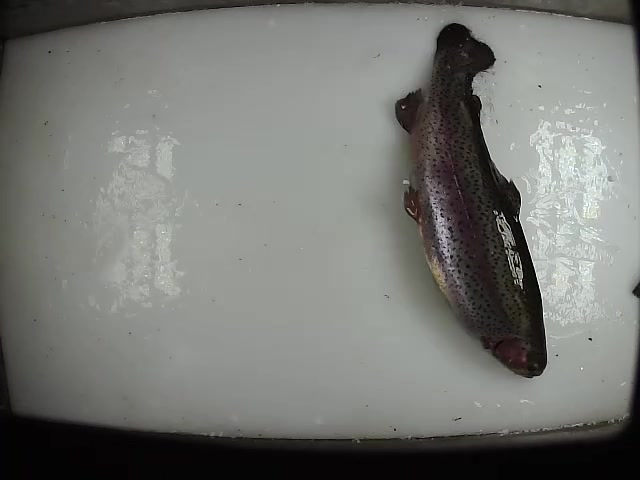fish: (393, 21, 549, 379)
